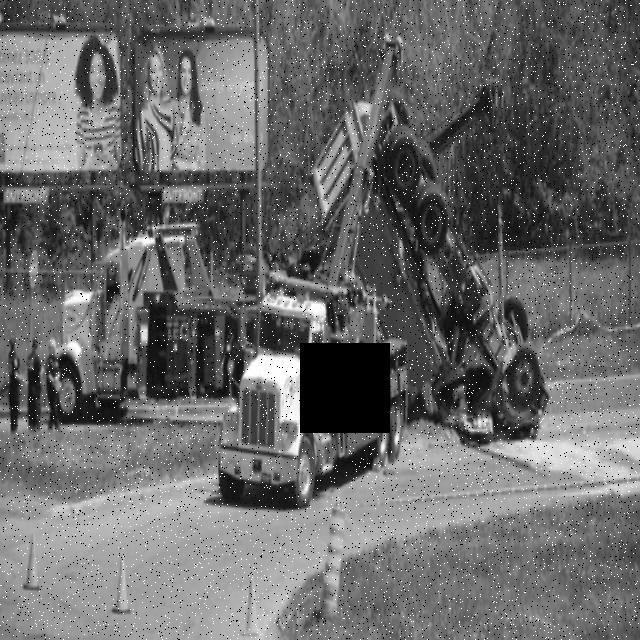severe: (304, 74, 548, 444)
